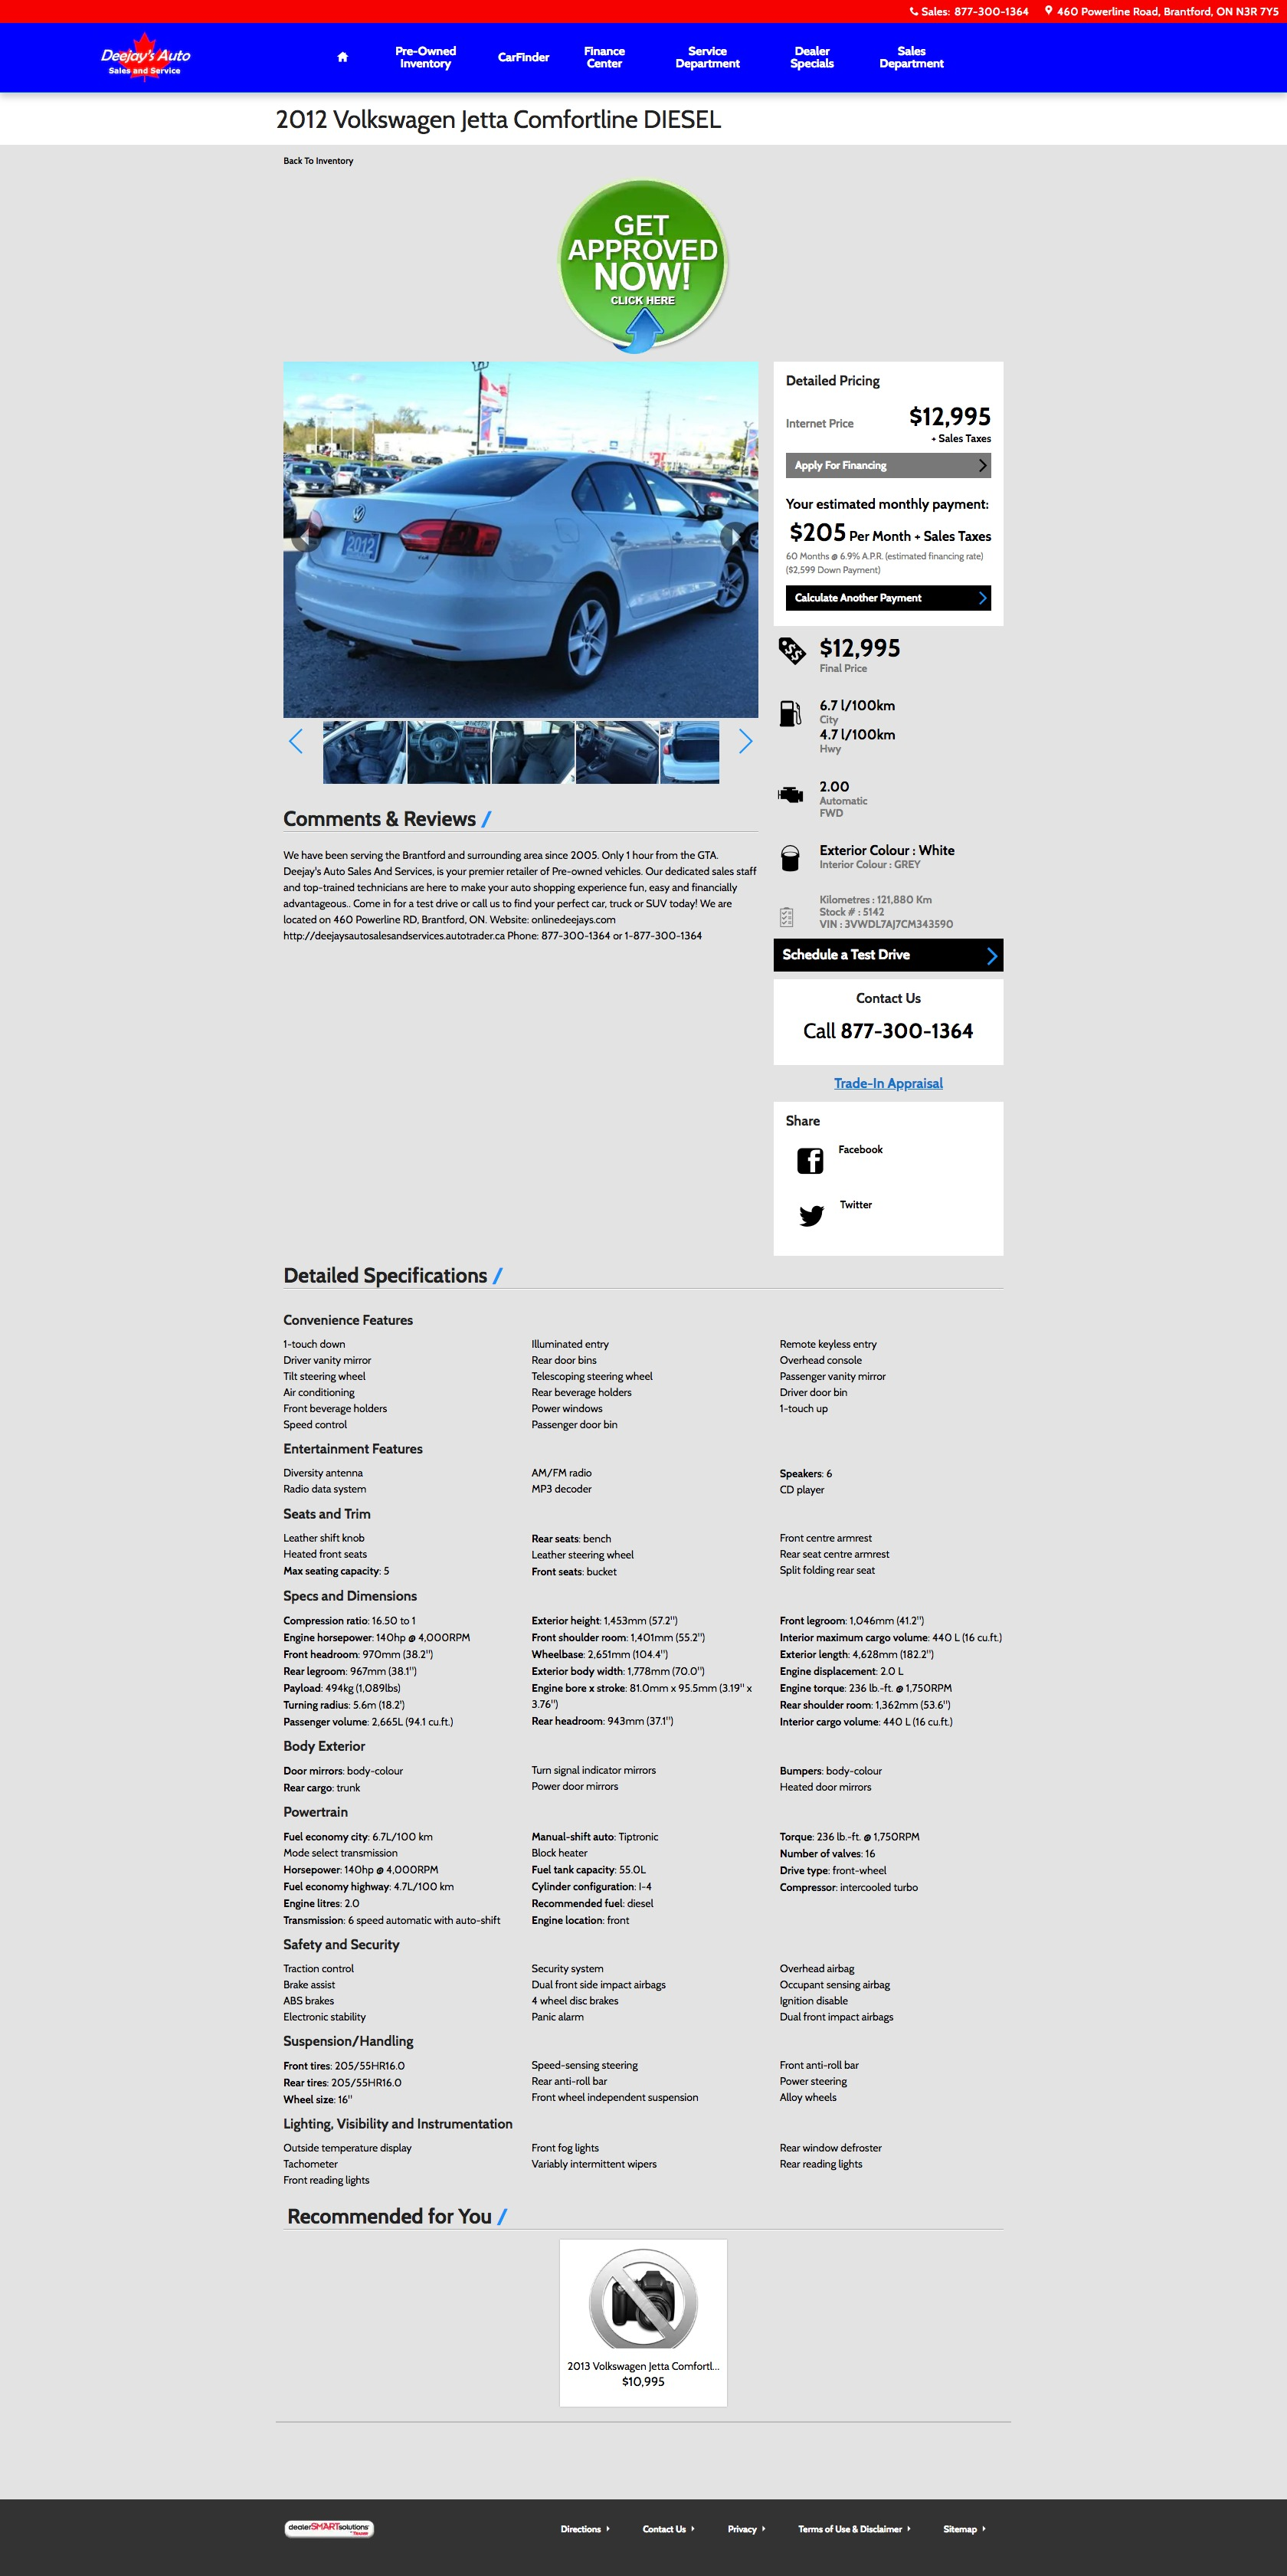car: (740, 729, 753, 754)
